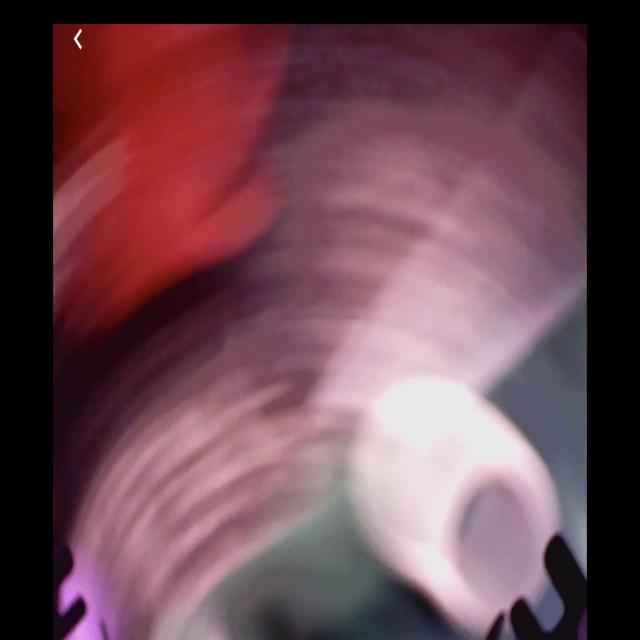ball: (55, 559, 112, 640)
